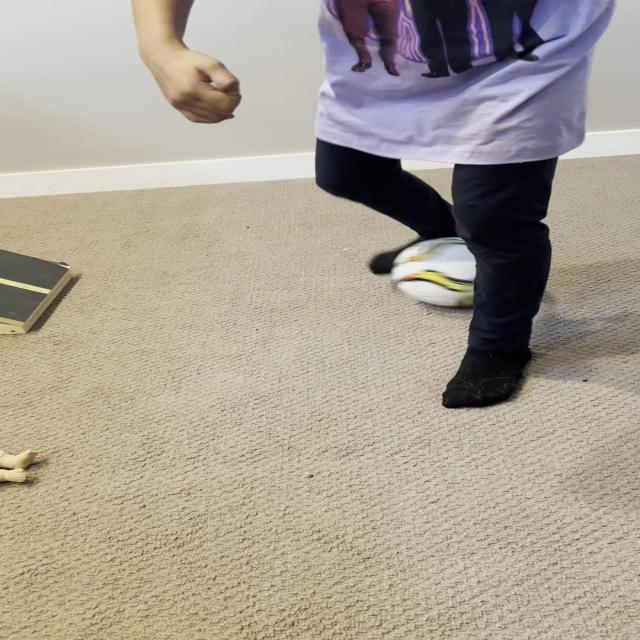Soccer Ball: (391, 238, 512, 307)
